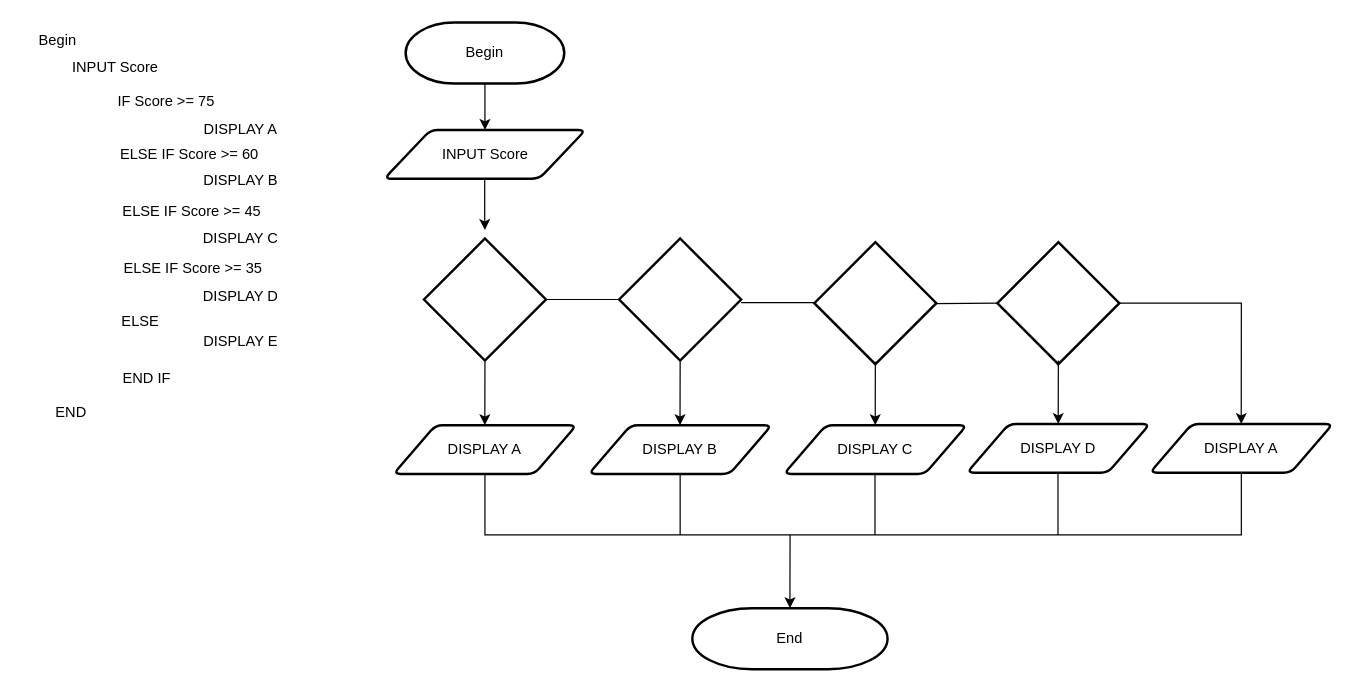
Some shapes in this 1354 by 691 pixel diagram are drawn without their labels. Each missing label, with the box of its shape:
Score >= 35: (996, 240, 1120, 365)
Score >= 45: (813, 240, 937, 365)
Score >= 60: (617, 237, 742, 361)
Score >= 75: (422, 237, 547, 361)
